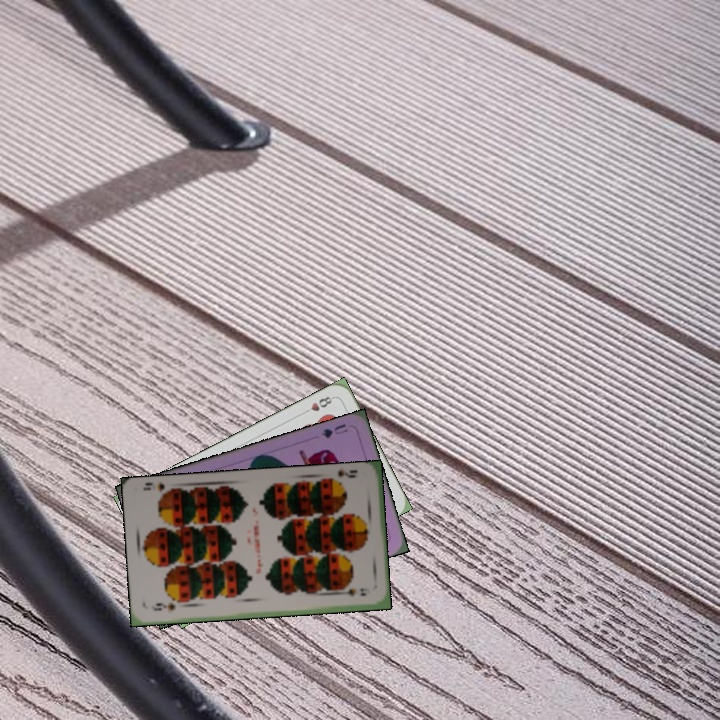GU: (317, 419, 350, 441)
H8: (299, 392, 337, 417)
S9: (325, 465, 359, 487), (147, 599, 178, 613)
